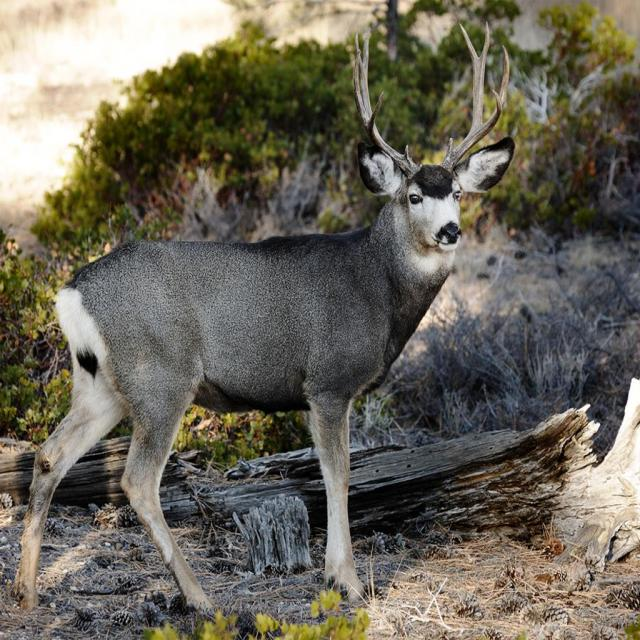Deer: (13, 28, 515, 610)
